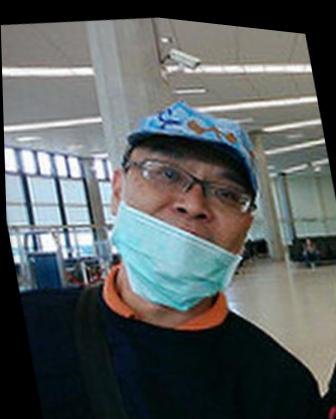WRONG: (112, 122, 268, 302)
